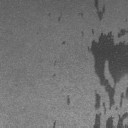red iron: (87, 28, 128, 128), (94, 0, 106, 21), (66, 94, 71, 106), (52, 120, 57, 128), (78, 12, 84, 18), (58, 14, 62, 21), (61, 40, 66, 45), (82, 30, 85, 38)
